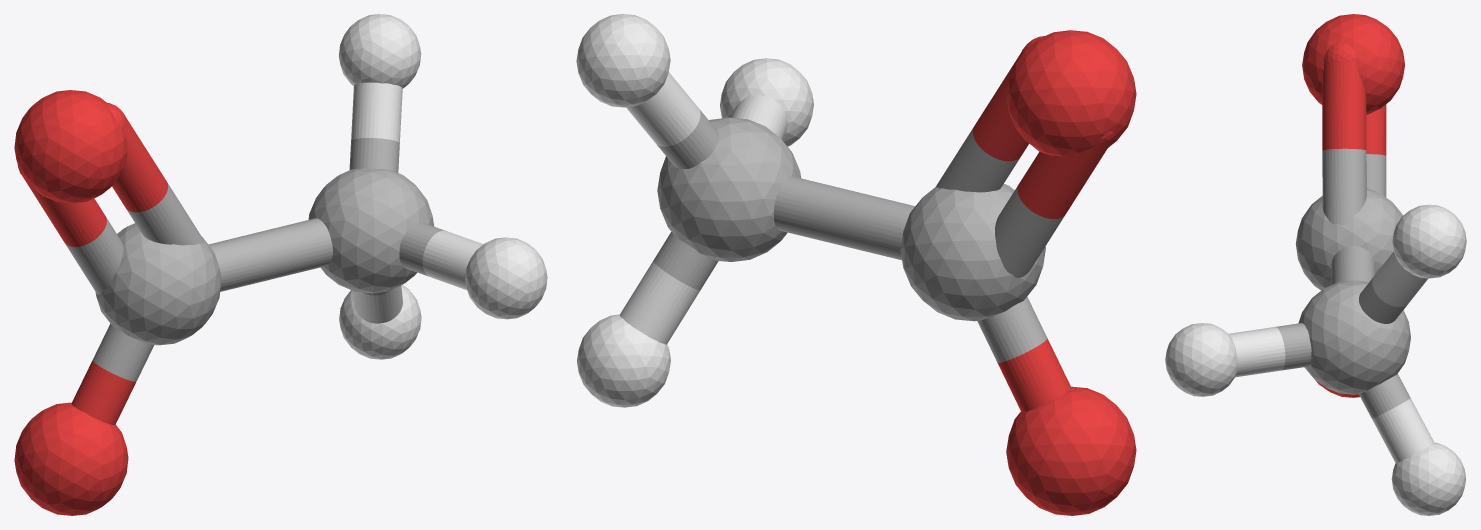
Rendered from acetate.fbx.
3 views of the same model, side by side, from view 1: azimuth 30°, elevation 25°; view 2: azimuth 150°, elevation 25°; view 3: azimuth 270°, elevation 25° (orthographic). The views are drawn at different scales.
Visible parts, largest first — view 1: Shape_IndexedFaceSet.001, Shape_IndexedFaceSet, Shape_IndexedFaceSet.002, Shape_IndexedFaceSet.003, Shape_IndexedFaceSet.029, Shape_IndexedFaceSet.004, Shape_IndexedFaceSet.006, Shape_IndexedFaceSet.005, Shape_IndexedFaceSet.009, Shape_IndexedFaceSet.027, Shape_IndexedFaceSet.019, Shape_IndexedFaceSet.025 (+7 smaller); view 2: Shape_IndexedFaceSet.001, Shape_IndexedFaceSet.003, Shape_IndexedFaceSet.002, Shape_IndexedFaceSet, Shape_IndexedFaceSet.029, Shape_IndexedFaceSet.006, Shape_IndexedFaceSet.005, Shape_IndexedFaceSet.004, Shape_IndexedFaceSet.023, Shape_IndexedFaceSet.012, Shape_IndexedFaceSet.021, Shape_IndexedFaceSet.019 (+7 smaller); view 3: Shape_IndexedFaceSet.001, Shape_IndexedFaceSet.002, Shape_IndexedFaceSet, Shape_IndexedFaceSet.006, Shape_IndexedFaceSet.004, Shape_IndexedFaceSet.005, Shape_IndexedFaceSet.027, Shape_IndexedFaceSet.025, Shape_IndexedFaceSet.012, Shape_IndexedFaceSet.015, Shape_IndexedFaceSet.009, Shape_IndexedFaceSet.029 (+6 smaller).
Boxes of the visible parts, box(x1,y1,x2,y2) form: Shape_IndexedFaceSet.001: box(308, 168, 434, 293); Shape_IndexedFaceSet: box(95, 223, 221, 345); Shape_IndexedFaceSet.002: box(14, 90, 127, 203); Shape_IndexedFaceSet.003: box(14, 402, 128, 515); Shape_IndexedFaceSet.029: box(208, 218, 332, 291); Shape_IndexedFaceSet.004: box(465, 237, 547, 319); Shape_IndexedFaceSet.006: box(339, 14, 421, 88); Shape_IndexedFaceSet.005: box(339, 284, 421, 359); Shape_IndexedFaceSet.009: box(351, 82, 402, 142); Shape_IndexedFaceSet.027: box(112, 117, 167, 212); Shape_IndexedFaceSet.019: box(71, 360, 135, 424); Shape_IndexedFaceSet.025: box(126, 182, 204, 245); Shape_IndexedFaceSet.001: box(657, 117, 800, 261); Shape_IndexedFaceSet.003: box(1006, 386, 1136, 515); Shape_IndexedFaceSet.002: box(1006, 30, 1136, 156); Shape_IndexedFaceSet: box(900, 184, 1045, 321); Shape_IndexedFaceSet.029: box(773, 176, 915, 260); Shape_IndexedFaceSet.006: box(576, 14, 670, 107); Shape_IndexedFaceSet.005: box(577, 314, 670, 407); Shape_IndexedFaceSet.004: box(720, 58, 813, 146); Shape_IndexedFaceSet.023: box(1017, 141, 1111, 218); Shape_IndexedFaceSet.012: box(620, 261, 700, 344); Shape_IndexedFaceSet.021: box(995, 185, 1064, 277); Shape_IndexedFaceSet.019: box(997, 338, 1070, 412); Shape_IndexedFaceSet.001: box(1298, 280, 1410, 394); Shape_IndexedFaceSet.002: box(1302, 14, 1404, 114); Shape_IndexedFaceSet: box(1296, 188, 1402, 290); Shape_IndexedFaceSet.006: box(1392, 204, 1466, 278); Shape_IndexedFaceSet.004: box(1165, 323, 1237, 396); Shape_IndexedFaceSet.005: box(1391, 442, 1465, 515); Shape_IndexedFaceSet.027: box(1322, 60, 1366, 150); Shape_IndexedFaceSet.025: box(1322, 148, 1366, 225); Shape_IndexedFaceSet.012: box(1372, 398, 1434, 463); Shape_IndexedFaceSet.015: box(1229, 327, 1285, 377); Shape_IndexedFaceSet.009: box(1372, 252, 1428, 307); Shape_IndexedFaceSet.029: box(1331, 246, 1375, 284).
Size of the model in its own units: 3084 by 2812 by 2050.
